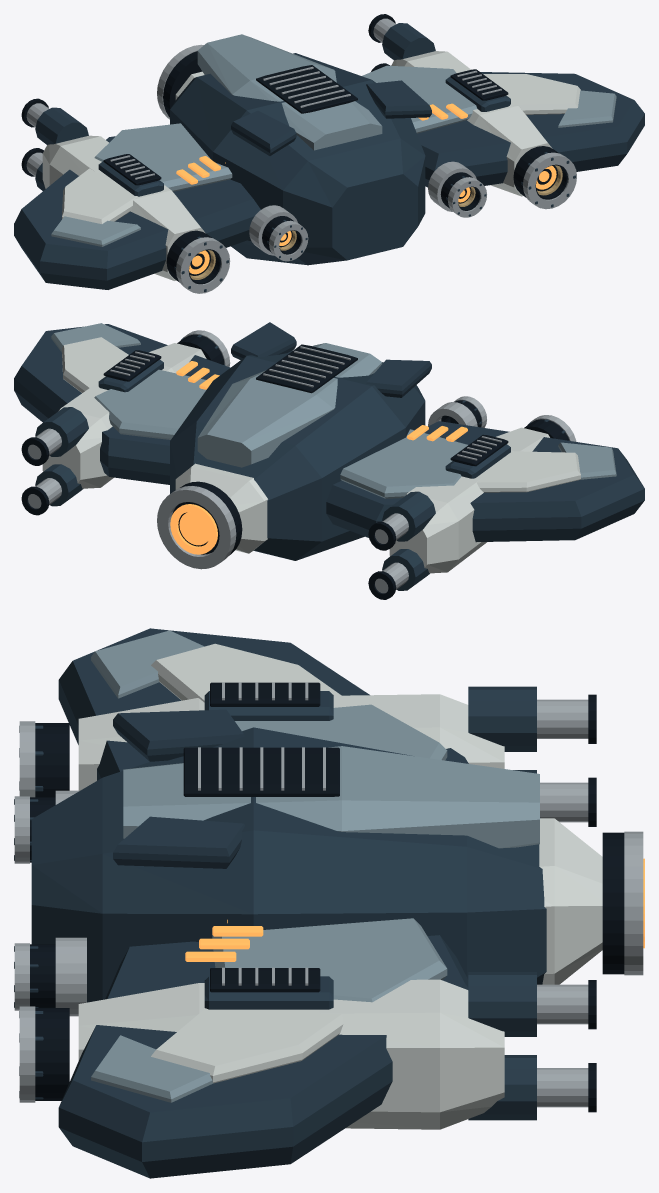
File: overseer.glb
3 views of the same model, one above another, from view 1: azimuth 30°, elevation 25°; view 2: azimuth 150°, elevation 25°; view 3: azimuth 270°, elevation 25° (orthographic). The views are drawn at different scales.
Visible parts, largest first — view 1: overseer; view 2: overseer; view 3: overseer.
Boxes of the visible parts, x1=… form: overseer: x1=14, y1=14, x2=644, y2=293; overseer: x1=14, y1=322, x2=644, y2=599; overseer: x1=14, y1=628, x2=644, y2=1178.
Bounding box in the file's own units: 11.3 × 2.76 × 6.06.
